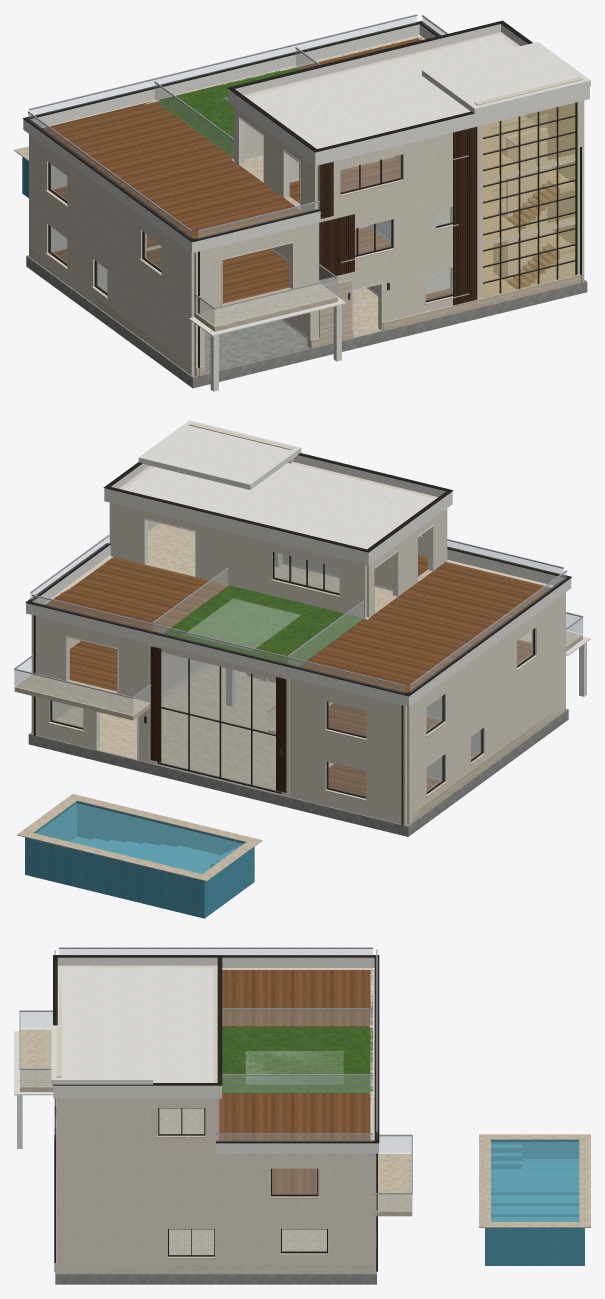
Rendered from LuxuryVilla_Architecture.fbx.
3 views of the same model, one above another, from view 1: azimuth 30°, elevation 25°; view 2: azimuth 150°, elevation 25°; view 3: azimuth 270°, elevation 25° (orthographic). The views are drawn at different scales.
Visible parts, largest first — view 1: ExteriorWalls, Roof, UpperFloor, Windows, Railings, Trim, Foundation, Stairs, GroundFloor, Balcony, InteriorWalls, StructuralColumns (+1 smaller); view 2: ExteriorWalls, UpperFloor, Roof, Windows, SwimmingPool, GroundFloor, Railings, Trim, PoolWater, Foundation, Balcony, InteriorWalls (+1 smaller); view 3: ExteriorWalls, Roof, UpperFloor, SwimmingPool, Railings, PoolWater, Trim, Windows, Balcony, Foundation, GroundFloor.
Boxes of the visible parts, bbox=[...] form: ExteriorWalls: bbox=[29, 32, 584, 376]; Roof: bbox=[23, 24, 590, 336]; UpperFloor: bbox=[42, 37, 575, 303]; Windows: bbox=[48, 102, 576, 302]; Railings: bbox=[27, 14, 559, 326]; Trim: bbox=[23, 20, 581, 376]; Foundation: bbox=[26, 255, 587, 388]; Stairs: bbox=[493, 128, 574, 288]; GroundFloor: bbox=[53, 244, 515, 375]; Balcony: bbox=[194, 284, 337, 331]; InteriorWalls: bbox=[98, 156, 452, 336]; StructuralColumns: bbox=[158, 65, 341, 391]; ExteriorWalls: bbox=[31, 422, 565, 824]; UpperFloor: bbox=[45, 523, 551, 736]; Roof: bbox=[26, 420, 590, 706]; Windows: bbox=[50, 534, 534, 798]; SwimmingPool: bbox=[17, 794, 262, 918]; GroundFloor: bbox=[55, 664, 440, 796]; Railings: bbox=[14, 535, 583, 728]; Trim: bbox=[25, 453, 571, 825]; PoolWater: bbox=[36, 803, 243, 873]; Foundation: bbox=[28, 708, 568, 836]; Balcony: bbox=[14, 631, 582, 720]; InteriorWalls: bbox=[161, 552, 479, 778]; ExteriorWalls: bbox=[54, 965, 375, 1273]; Roof: bbox=[14, 957, 378, 1153]; UpperFloor: bbox=[159, 969, 372, 1194]; SwimmingPool: bbox=[479, 1134, 590, 1265]; Railings: bbox=[19, 947, 412, 1210]; PoolWater: bbox=[491, 1141, 579, 1221]; Trim: bbox=[53, 955, 379, 1271]; Windows: bbox=[158, 1108, 327, 1256]; Balcony: bbox=[20, 1029, 412, 1216]; Foundation: bbox=[55, 1108, 376, 1284]; GroundFloor: bbox=[169, 1229, 326, 1254].
Size of the model in its own units: 22.64 by 13.3 by 29.4.
17 materials, 12 textured.
